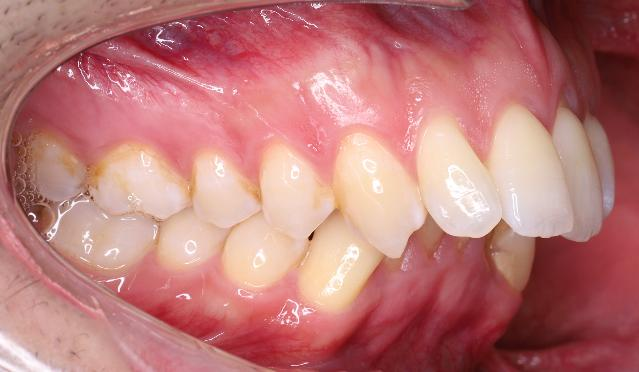canine class II full class: (221, 127, 422, 310)
molar class II full class: (40, 130, 194, 278)
